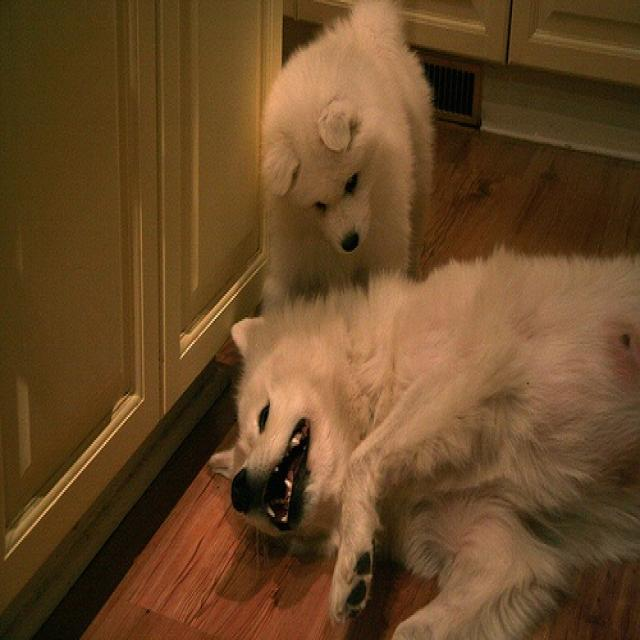dog: (210, 253, 640, 639), (262, 1, 436, 316)
